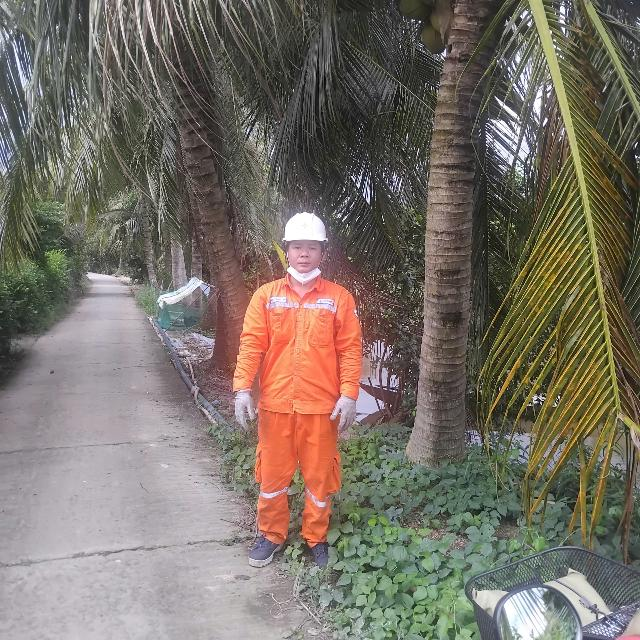gloves: (318, 389, 368, 433), (219, 382, 261, 432)
helmet: (266, 205, 338, 251)
shoes: (231, 531, 296, 567), (292, 530, 339, 569)
